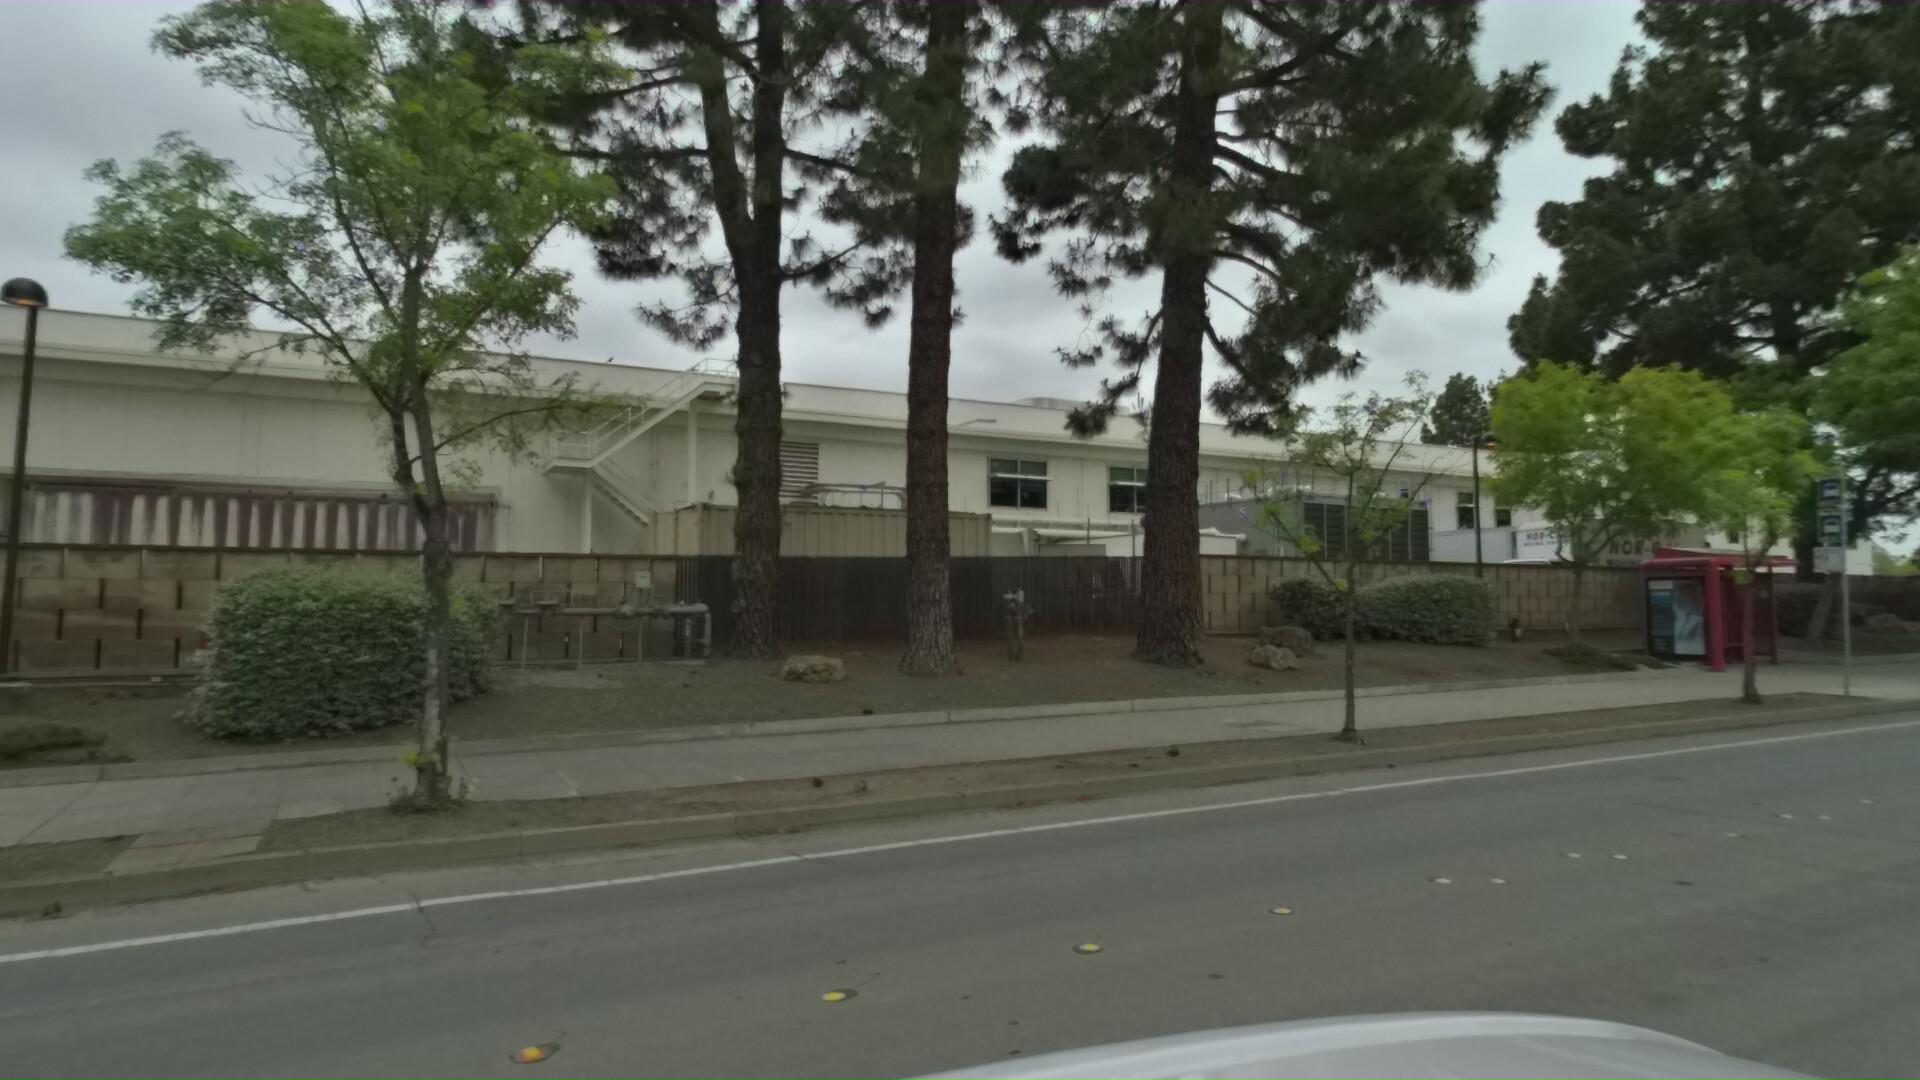truck: (1466, 506, 1708, 618)
